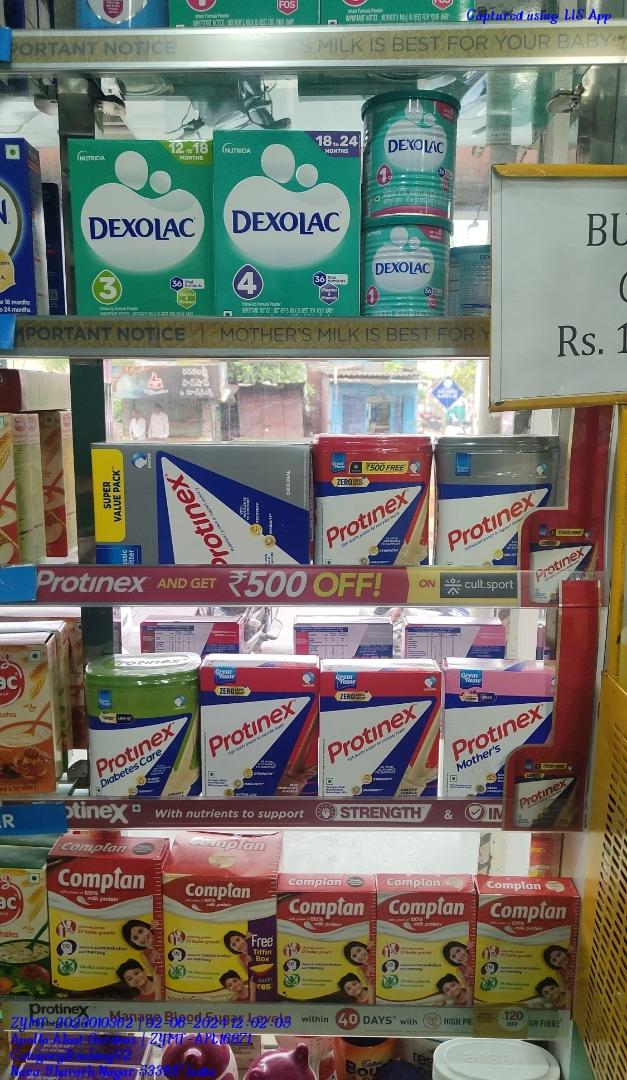PROTINEX_ORIGINAL_400_G_JAR: (435, 438, 560, 571)
PROTINEX_VANILLA_400_G_JAR: (320, 442, 427, 569)
